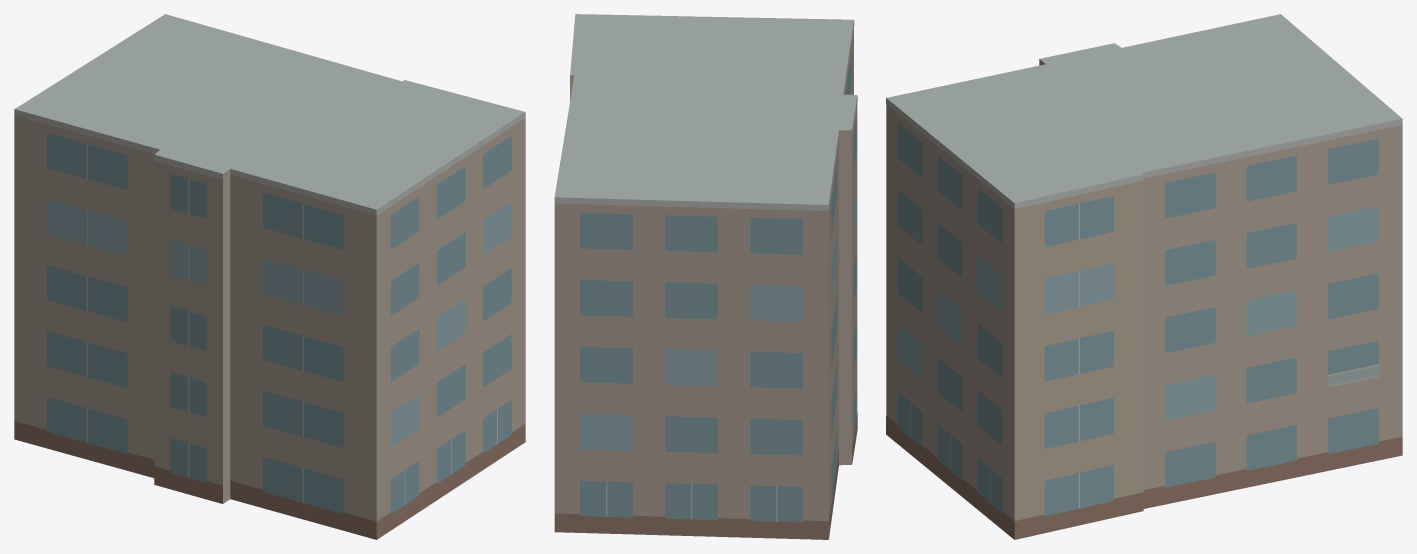
File: survey-upis-32837755.glb
The picture shows the model from 3 angles, left to right: view 1: azimuth 30°, elevation 25°; view 2: azimuth 150°, elevation 25°; view 3: azimuth 270°, elevation 25°; orthographic projection.
Parts seen in each view (by area): view 1: survey-upis-32837755.tmp; view 2: survey-upis-32837755.tmp; view 3: survey-upis-32837755.tmp.
Part boxes in pixels (x1,y1,x2,y2): survey-upis-32837755.tmp: (14,14,525,539); survey-upis-32837755.tmp: (554,14,857,539); survey-upis-32837755.tmp: (886,14,1402,539).
Bounding box in the file's own units: 16.17 × 13.4 × 18.64.
